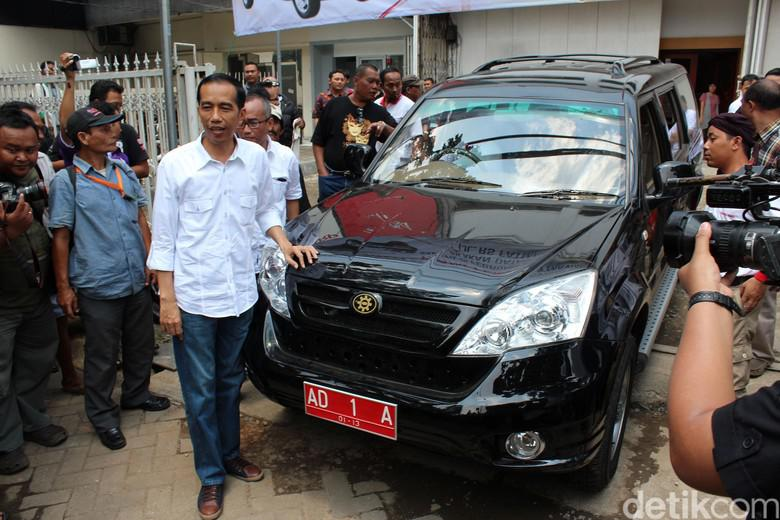plate: (303, 381, 398, 440)
